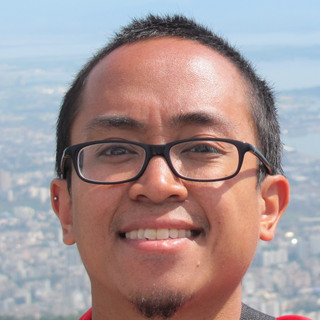eye: (173, 135, 228, 164), (90, 141, 140, 162)
